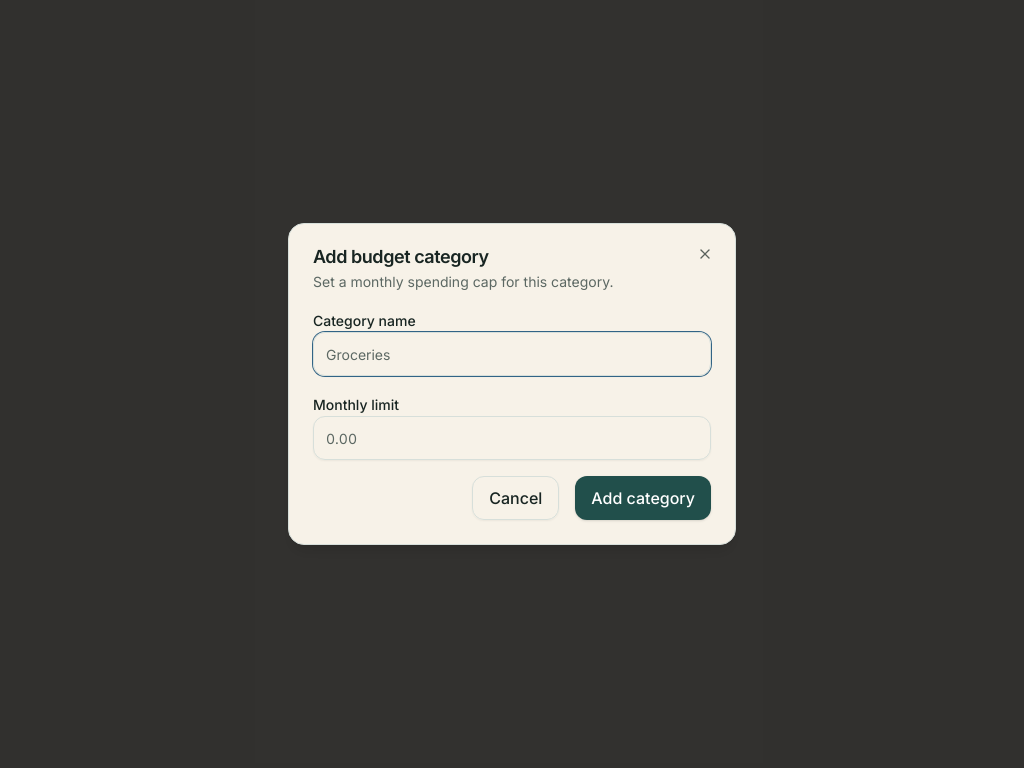
Test case: financial UI integration › retains a failed form and announces the save error
Type "Food" into the field labelled "Category name". click: (512, 354)
box: [313,332,711,376]
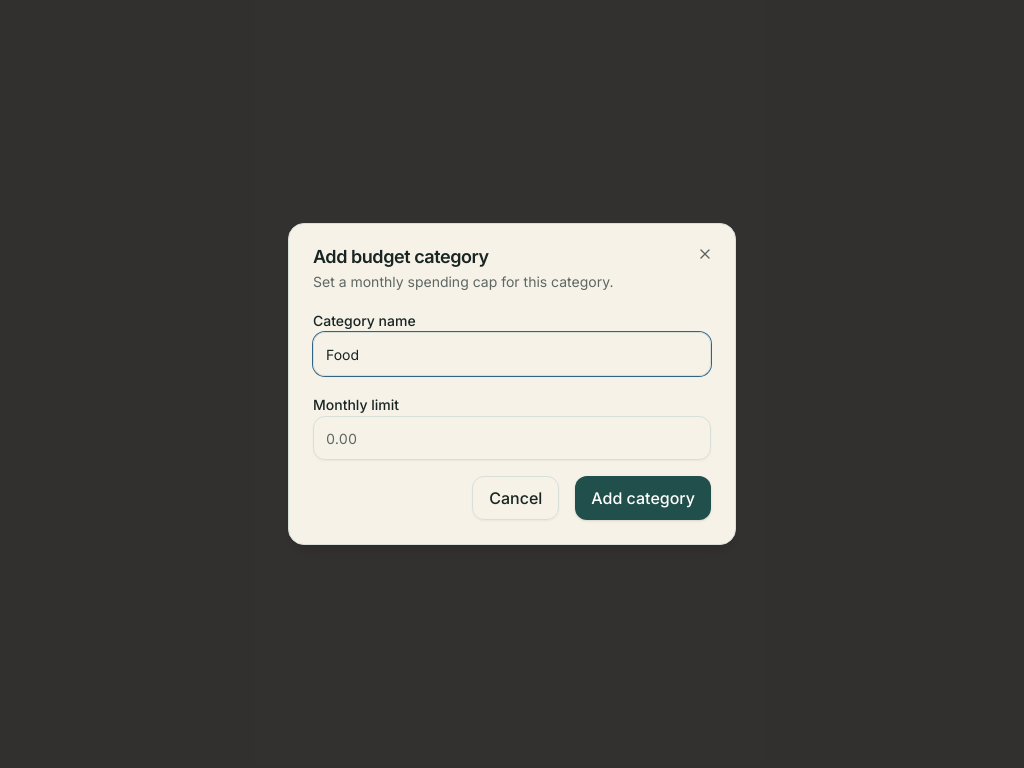
Type "100" into the number field labelled "Monthly limit". click: (512, 438)
box: [313,416,711,460]
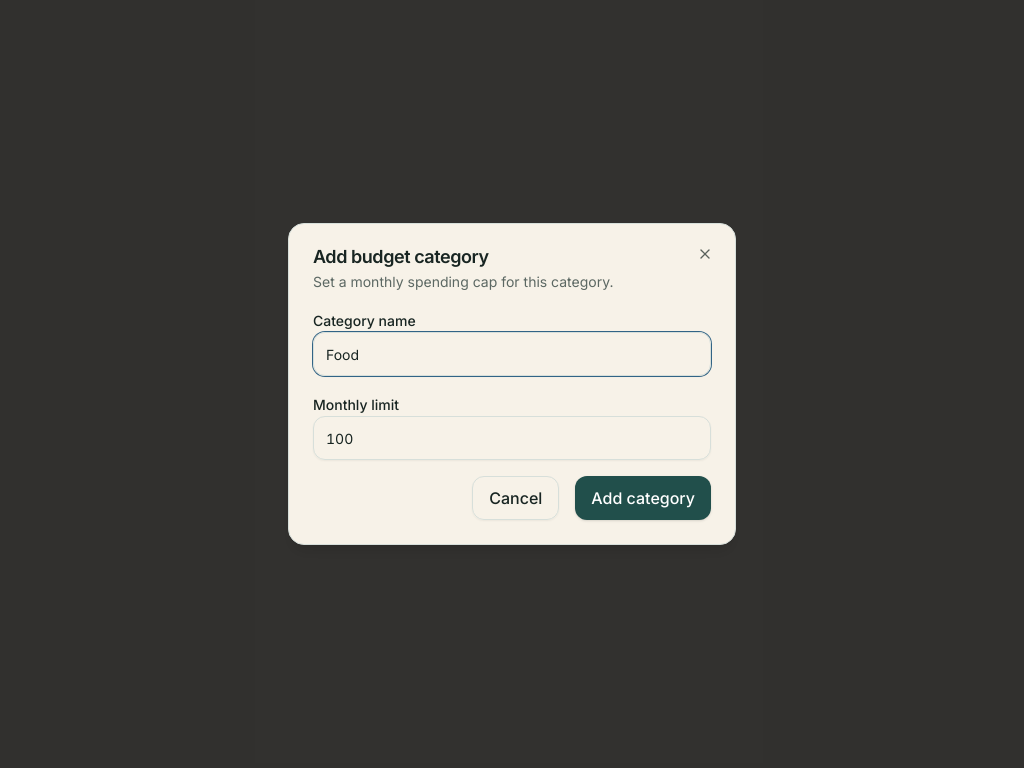
Click the button "Add category". click: click(643, 498)
box: [575,476,711,520]
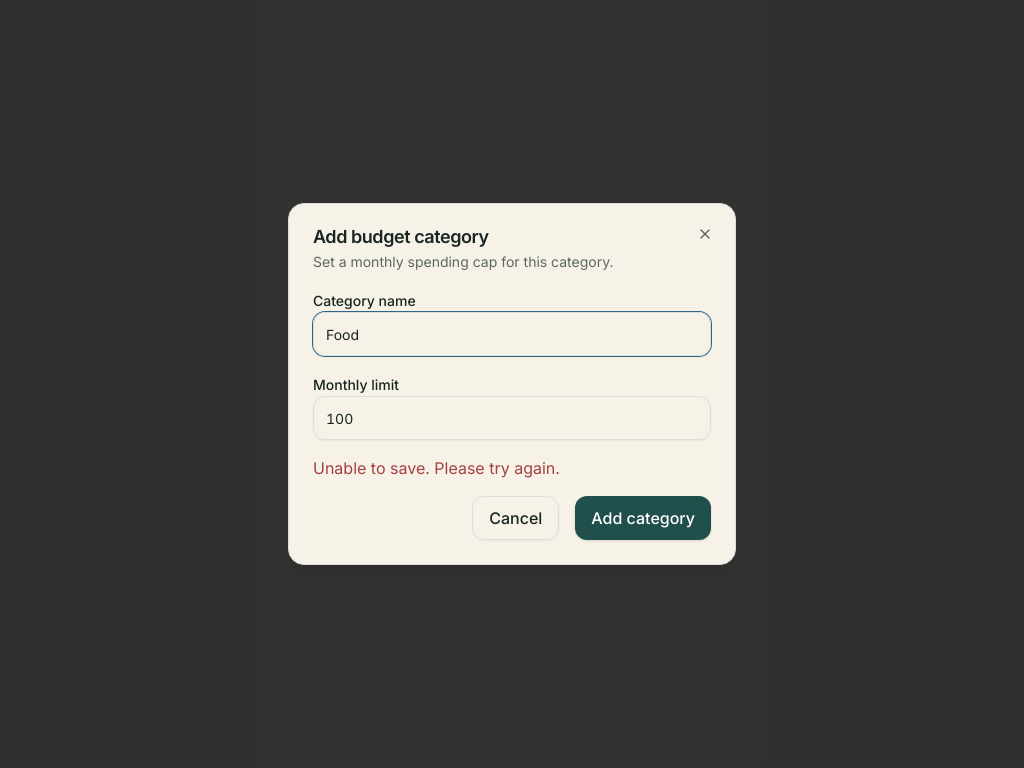
Now the message "Unable to save. Please try again." is shown, box [313,458,560,478]
